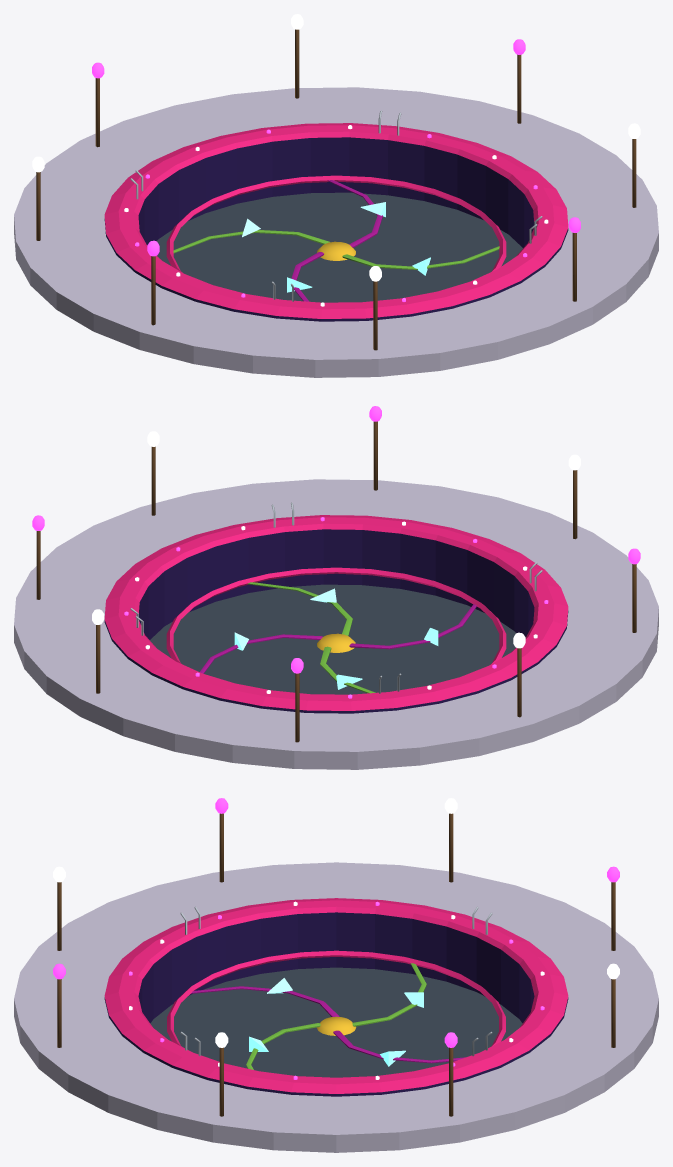
File: RoyalPool.fbx
3 views of the same model, one above another, from view 1: azimuth 30°, elevation 25°; view 2: azimuth 150°, elevation 25°; view 3: azimuth 270°, elevation 25° (orthographic).
Visible parts, largest first — view 1: Static, Rotor; view 2: Static, Rotor; view 3: Static, Rotor.
Part boxes in pixels (bbox=[...]): Static: bbox=[14, 14, 658, 377]; Rotor: bbox=[166, 175, 506, 301]; Static: bbox=[14, 406, 658, 769]; Rotor: bbox=[166, 567, 506, 693]; Static: bbox=[14, 798, 658, 1152]; Rotor: bbox=[167, 950, 505, 1069].
Size of the model in its own units: 22.8 by 5.35 by 22.8.
